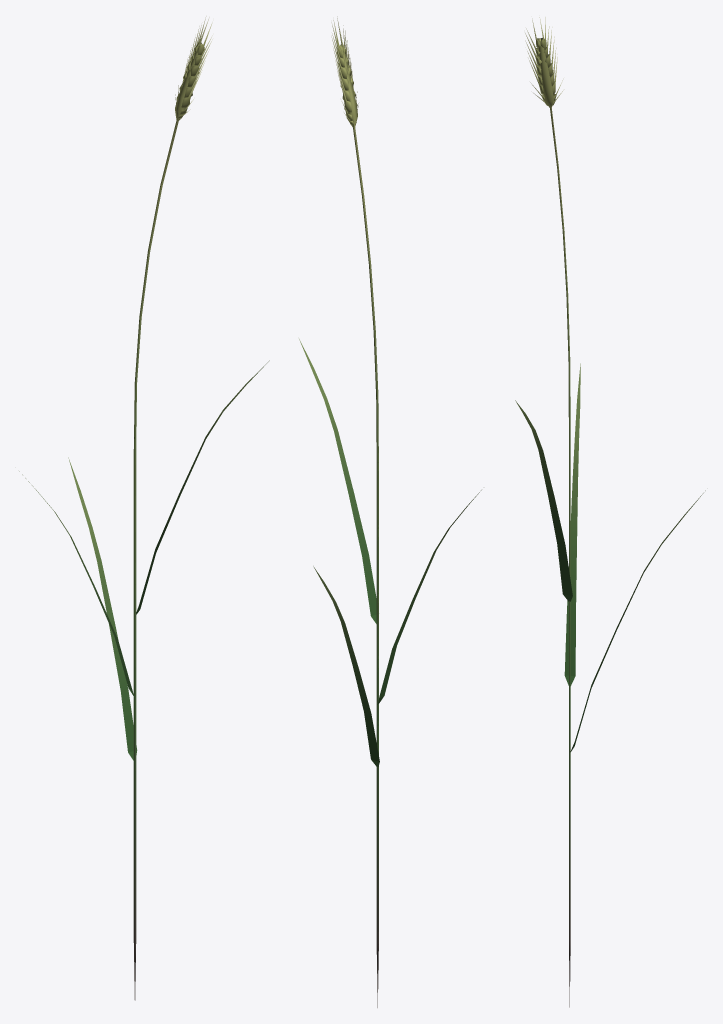
File: trees-grasses-grass-stalk_v1.glb
The picture shows the model from 3 angles, left to right: view 1: azimuth 30°, elevation 25°; view 2: azimuth 150°, elevation 25°; view 3: azimuth 270°, elevation 25°; orthographic projection. The views are drawn at different scales.
Visible parts, largest first — view 1: Grass Stalk_v1; view 2: Grass Stalk_v1; view 3: Grass Stalk_v1.
Part boxes in pixels (x1=…): Grass Stalk_v1: x1=19, y1=16, x2=269, y2=1000; Grass Stalk_v1: x1=299, y1=16, x2=481, y2=1007; Grass Stalk_v1: x1=515, y1=17, x2=705, y2=1007.
Bounding box in the file's own units: 0.189 × 0.8 × 0.137.
